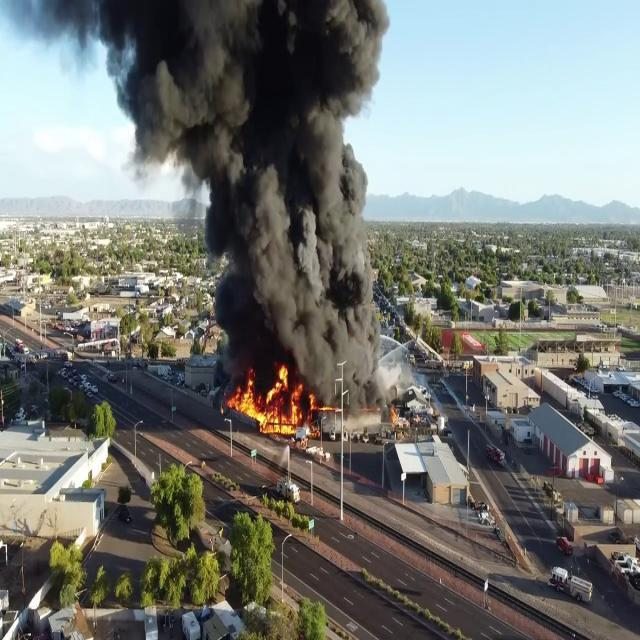Fire: (230, 359, 312, 438)
Smoke: (104, 0, 400, 359)
